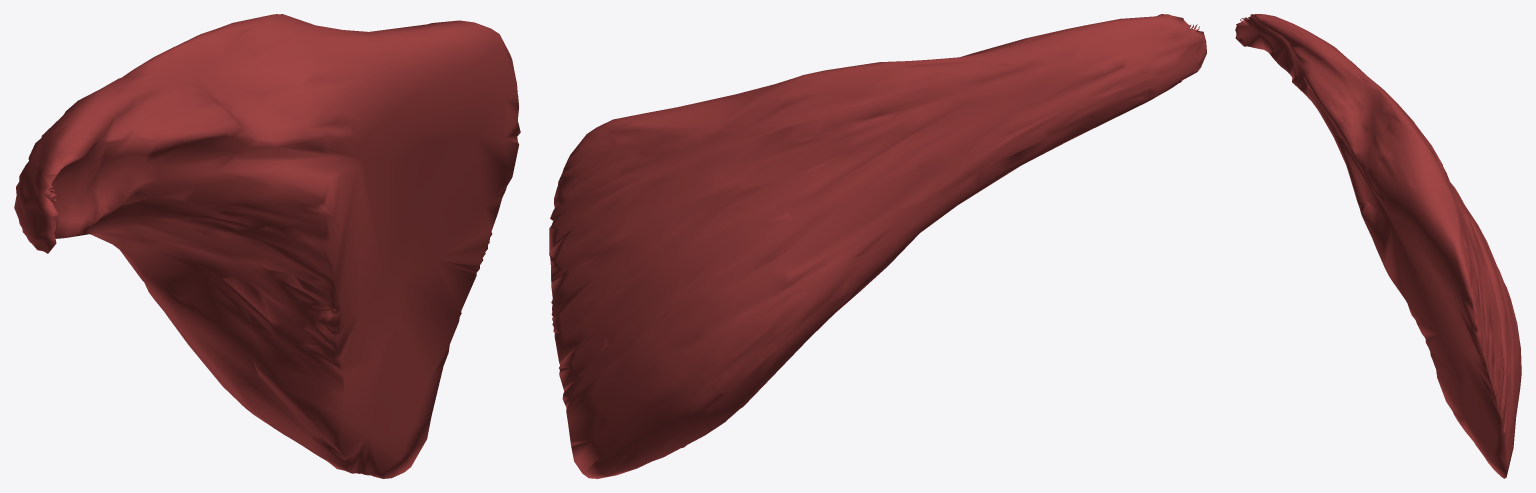
Rendered from infraspinatus-muscle-r.glb.
3 renders of one model, left to right at view 1: azimuth 30°, elevation 25°; view 2: azimuth 150°, elevation 25°; view 3: azimuth 270°, elevation 25°, orthographic. The views are drawn at different scales.
Visible parts, largest first — view 1: Infraspinatus muscle.r; view 2: Infraspinatus muscle.r; view 3: Infraspinatus muscle.r.
Part boxes in pixels (<box>): Infraspinatus muscle.r: <box>14,14,520,478</box>; Infraspinatus muscle.r: <box>549,14,1206,478</box>; Infraspinatus muscle.r: <box>1235,14,1521,478</box>.
Size of the model in its own units: 0.1326 by 0.1136 by 0.0918.
